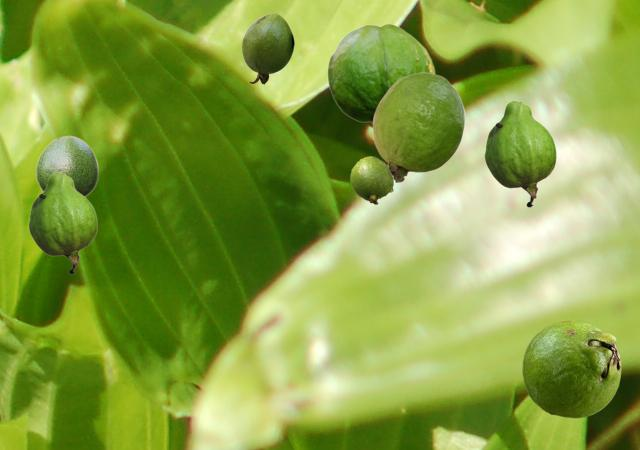guava: (327, 23, 434, 123), (372, 72, 464, 182), (522, 320, 620, 417), (484, 100, 555, 206), (28, 172, 96, 273), (35, 135, 98, 196), (242, 13, 293, 83), (350, 156, 392, 203)
